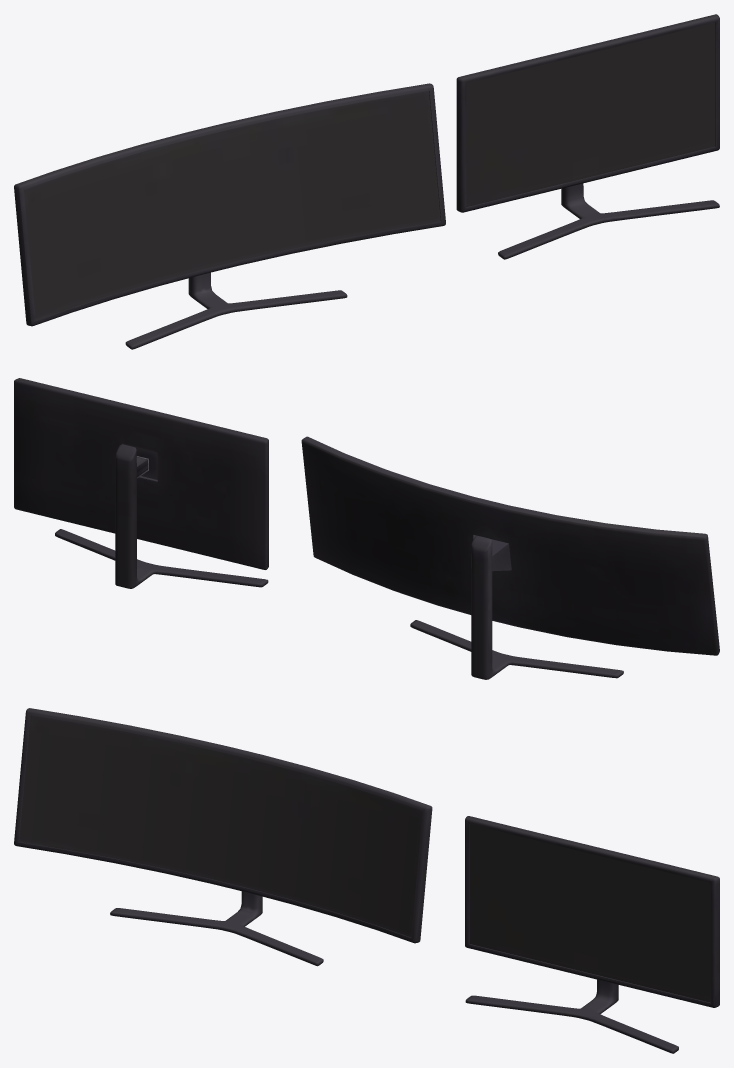
The model's file is monitor-dual.glb.
3 renders of one model, top to bottom at view 1: azimuth 30°, elevation 25°; view 2: azimuth 150°, elevation 25°; view 3: azimuth 330°, elevation 25°, orthographic. The views are drawn at different scales.
Parts seen in each view (by area): view 1: SM_widescreen_monitor_1, SM_standard_monitor_5, SM_widescreen_stand_2, SM_standard_monitor_stand_4; view 2: SM_widescreen_monitor_1, SM_standard_monitor_5, SM_standard_monitor_stand_4, SM_widescreen_stand_2; view 3: SM_widescreen_monitor_1, SM_standard_monitor_5, SM_widescreen_stand_2, SM_standard_monitor_stand_4.
Boxes of the visible parts, x1,y1,x2,y2 form: SM_widescreen_monitor_1: (14, 83, 445, 326); SM_standard_monitor_5: (456, 14, 719, 212); SM_widescreen_stand_2: (125, 272, 347, 349); SM_standard_monitor_stand_4: (498, 183, 719, 259); SM_widescreen_monitor_1: (301, 436, 719, 655); SM_standard_monitor_5: (14, 378, 268, 569); SM_standard_monitor_stand_4: (55, 444, 268, 588); SM_widescreen_stand_2: (410, 536, 623, 679); SM_widescreen_monitor_1: (14, 708, 432, 943); SM_standard_monitor_5: (465, 816, 719, 1007); SM_widescreen_stand_2: (110, 891, 323, 966); SM_standard_monitor_stand_4: (465, 979, 678, 1053).
Size of the model in its own units: 1.25 by 0.3015 by 0.1407.
2 materials, 2 textured.
